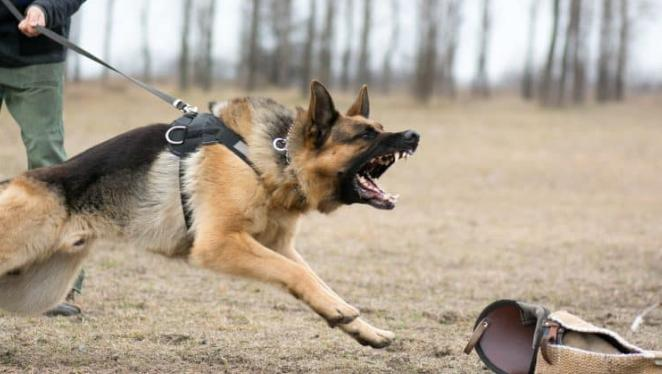dog_aggressive: (0, 81, 419, 347)
